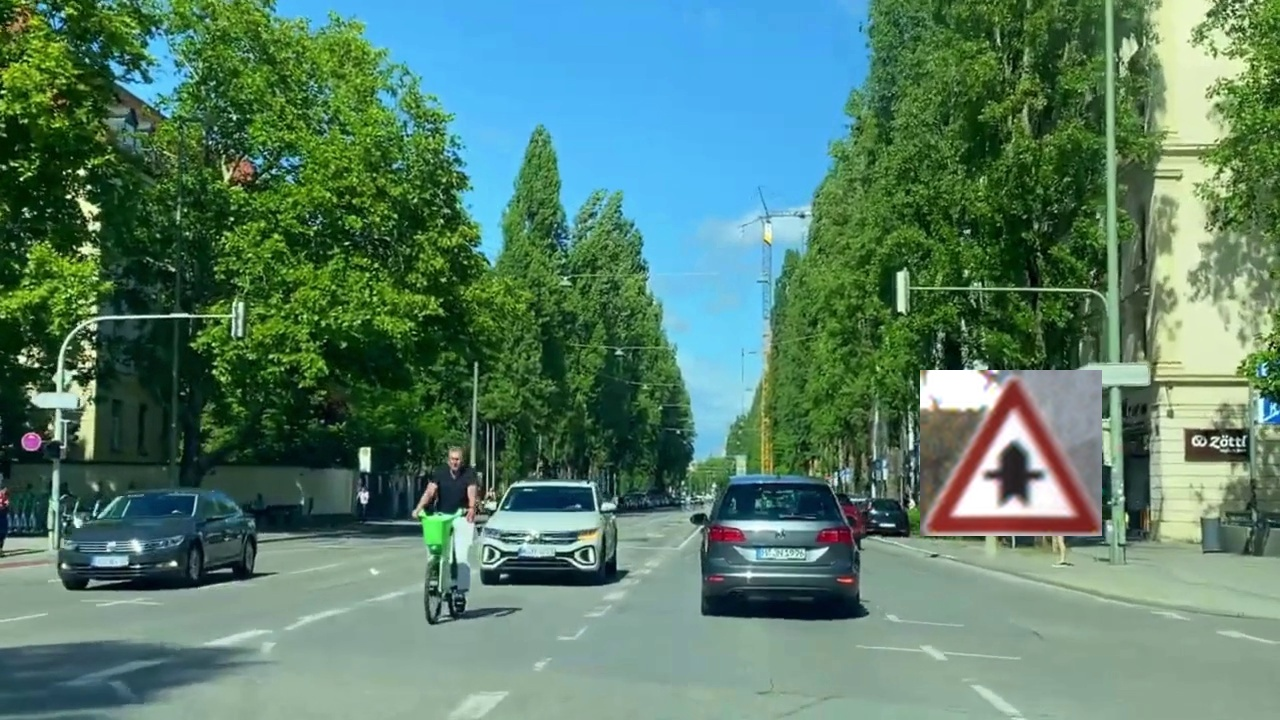Right-of-way: (920, 370, 1102, 536)
